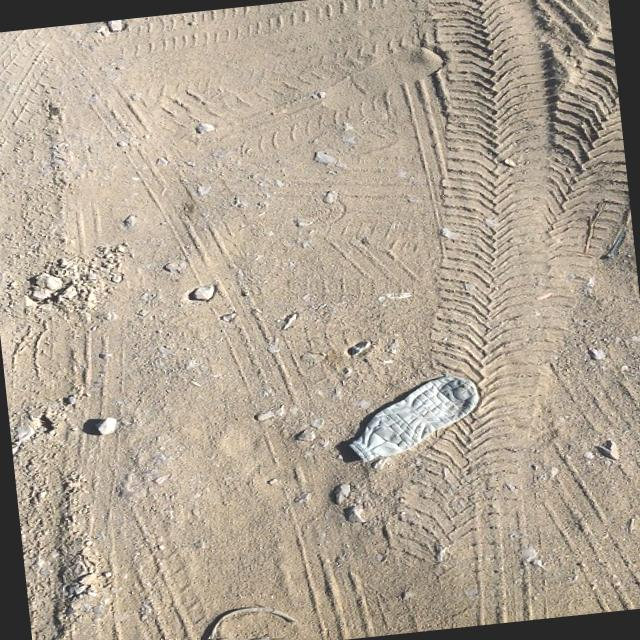Trash: (338, 372, 486, 464)
